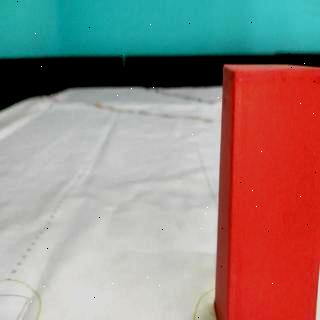redbox: (215, 64, 320, 320)
